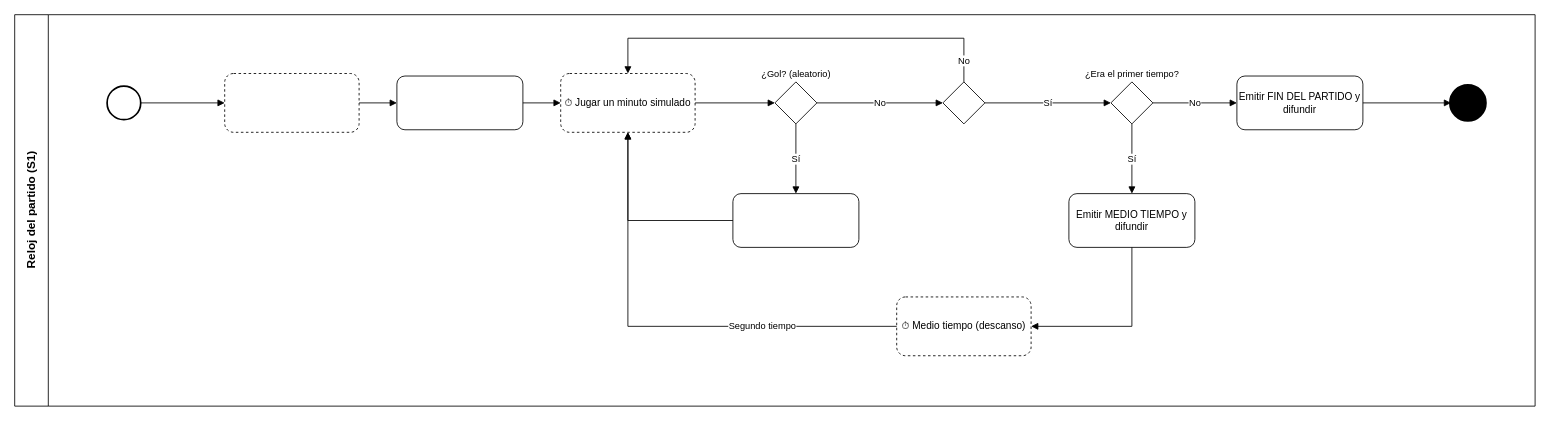
Image size: 1550x421. Some labels were removed from this diagram. Each missing label, with the centre of its shape:
Emitir GOL y difundir a S2/S3: (x=795, y=220)
Emitir INICIO (silbato) y difundir a S2/S3: (x=459, y=102)
¿Terminó el tiempo?: (x=963, y=102)
⏱ Esperar a que se llene el estadio: (x=291, y=102)
